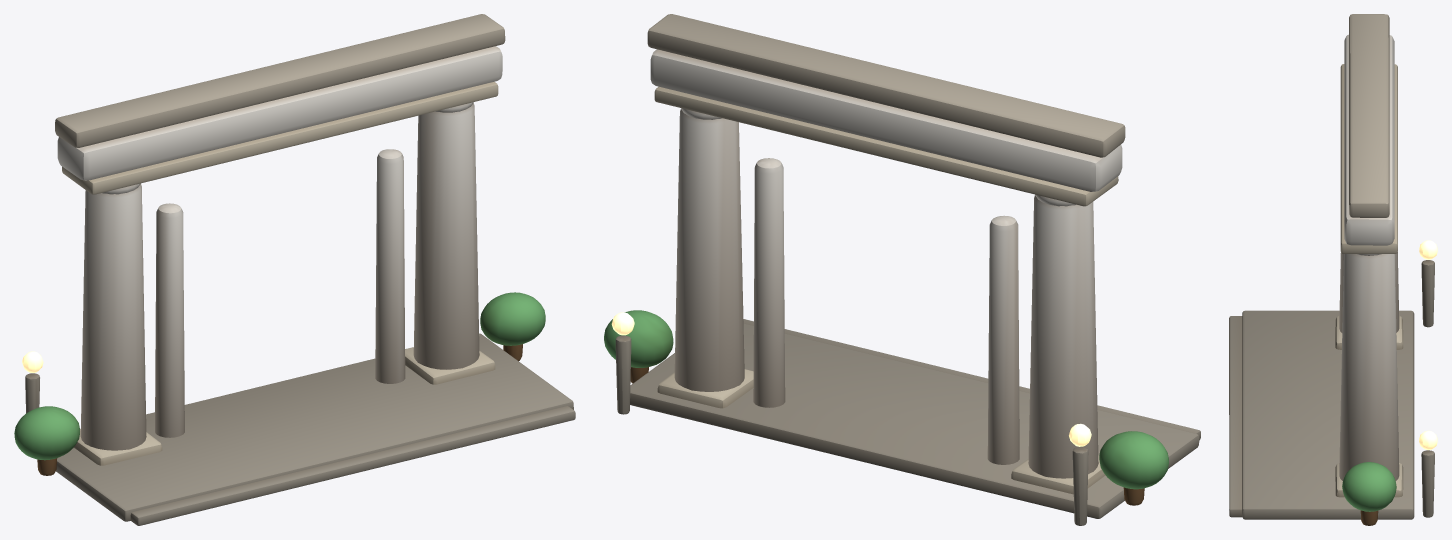
3 views of the same model, side by side, from view 1: azimuth 30°, elevation 25°; view 2: azimuth 150°, elevation 25°; view 3: azimuth 270°, elevation 25° (orthographic). The views are drawn at different scales.
Visible parts, largest first — view 1: gate_d5500798; view 2: gate_d5500798; view 3: gate_d5500798.
Boxes of the visible parts, x1,y1,x2,y2 form: gate_d5500798: (14,14,575,525); gate_d5500798: (604,14,1200,525); gate_d5500798: (1229,14,1437,525).
Size of the model in its own units: 6.71 by 4.22 by 2.55.
